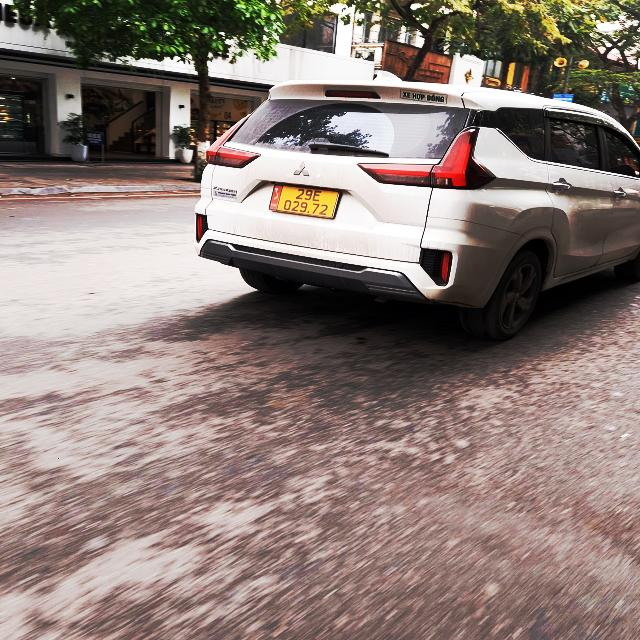license_plate: (265, 182, 348, 223)
